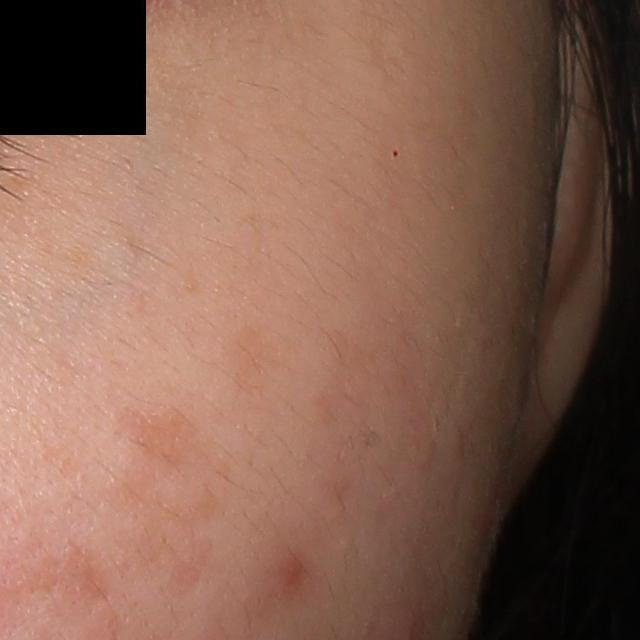melasma: (117, 399, 214, 475), (220, 320, 290, 403)
